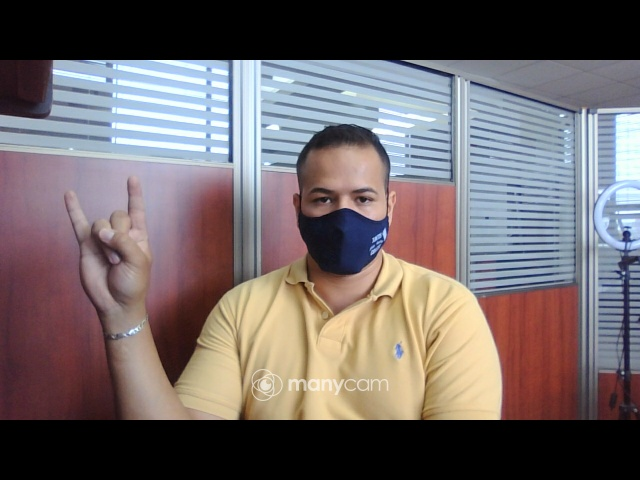I Love You: (58, 173, 155, 318)
